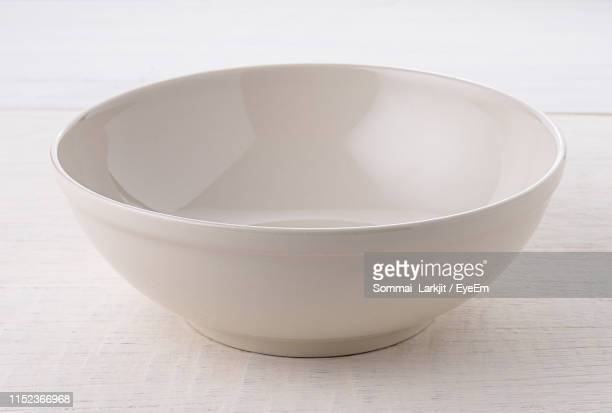bowl: (49, 63, 567, 359)
